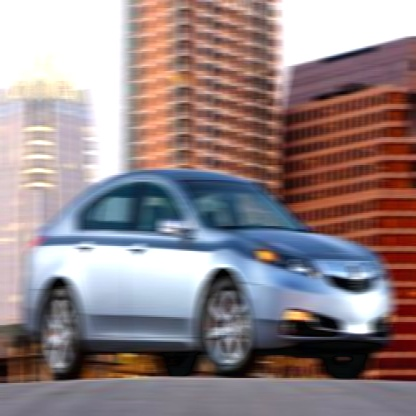Vehicle: (23, 167, 395, 388)
